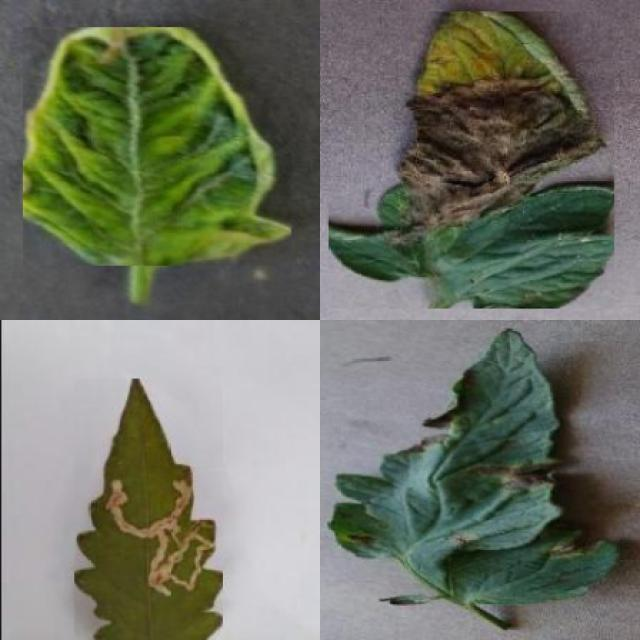Early Blight: (329, 329, 621, 604)
Late Blight: (329, 12, 614, 308)
Leaf Miner: (73, 378, 223, 640)
Yellow Leaf Curl Virus: (23, 27, 291, 266)
